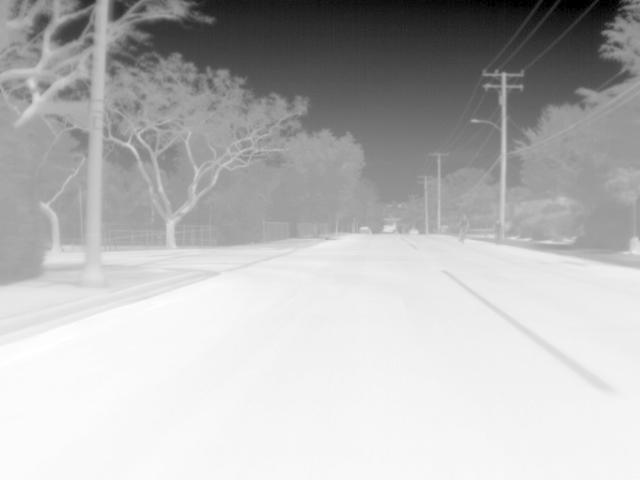car: (380, 223, 399, 236), (355, 224, 372, 236), (407, 226, 422, 237)
person: (455, 214, 470, 243)
